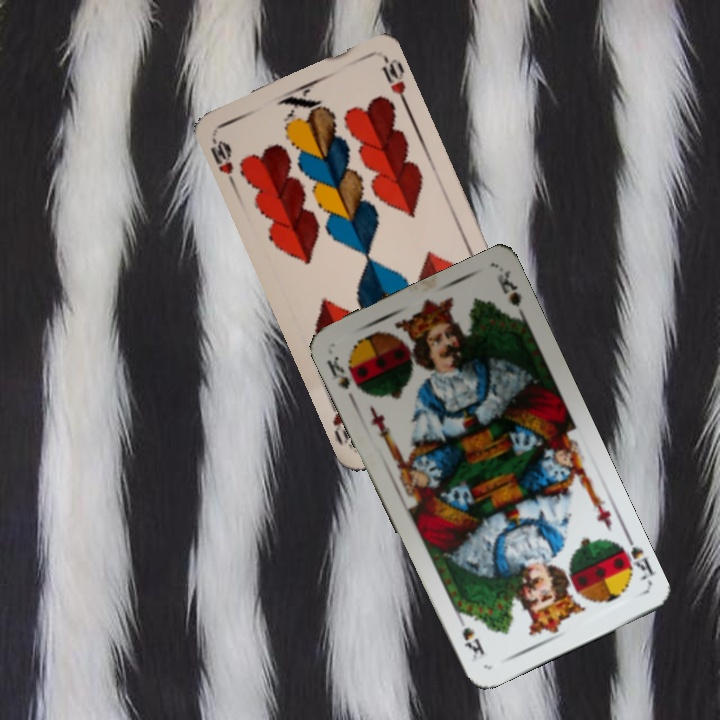H10: (206, 134, 238, 188)
SK: (611, 531, 656, 583), (322, 351, 353, 392)
